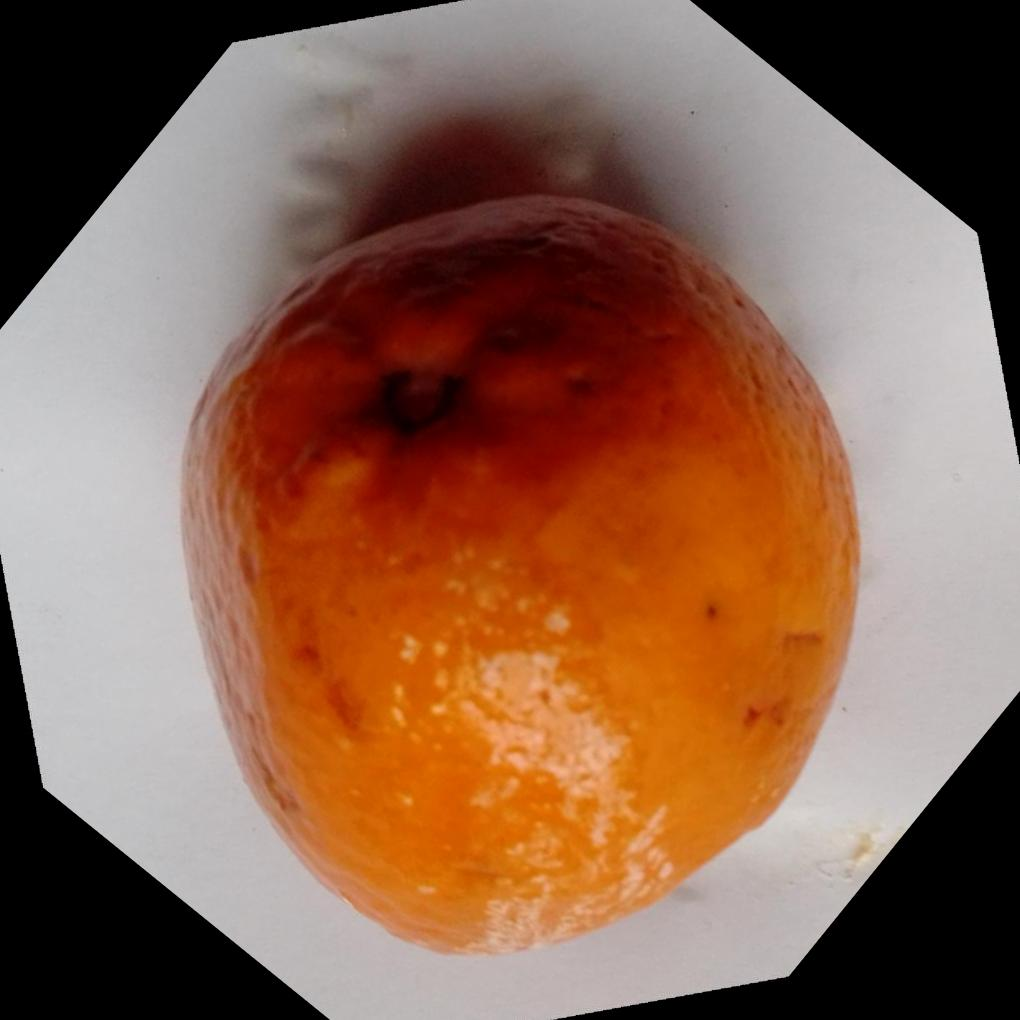FreshOrange: (178, 190, 865, 964)
